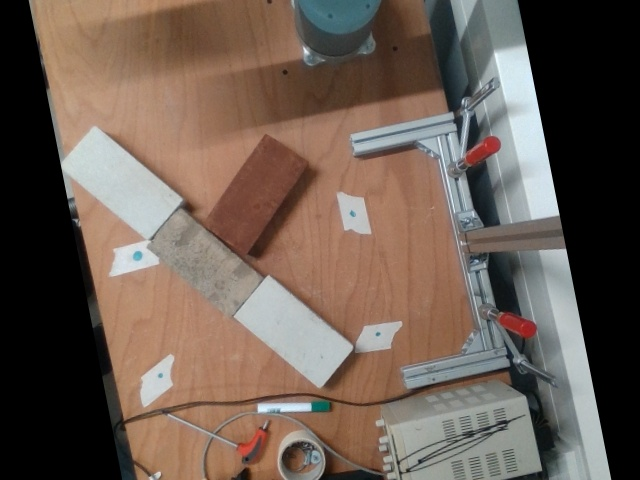brick: (234, 276, 354, 388), (61, 128, 181, 240), (203, 133, 309, 252), (145, 209, 260, 315)
